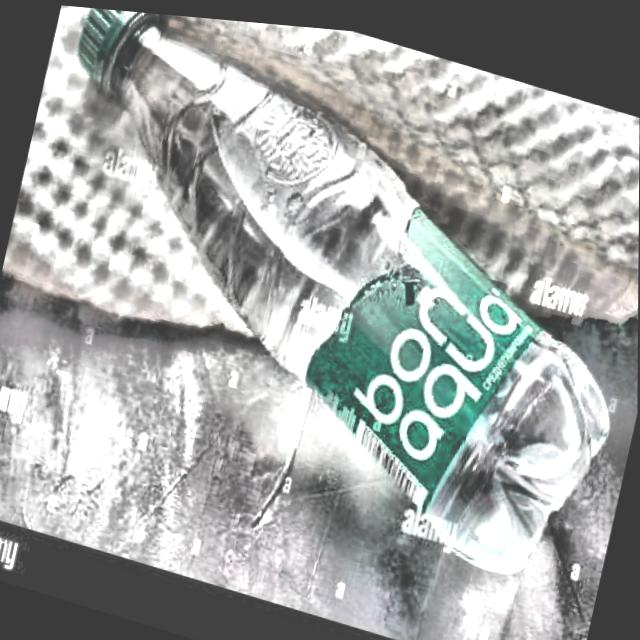Bottles: (0, 0, 640, 595)
